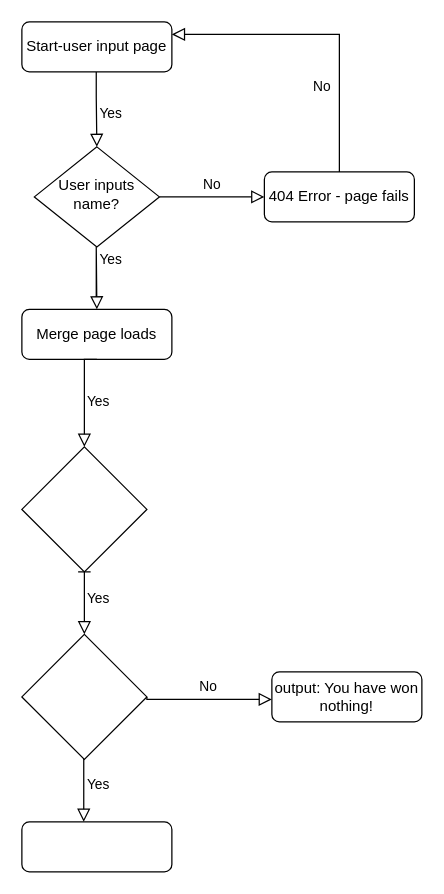
The diagram is 444 pixels wide and 894 high, and some of its shapes have lost their labels. The box of each missing label's shape, as (x1, y1, x2, y2) in pixels:
Colour and number generated?: (21, 446, 147, 572)
output: Your prize is £x: (21, 821, 172, 872)
Prize generated?: (21, 633, 147, 759)
